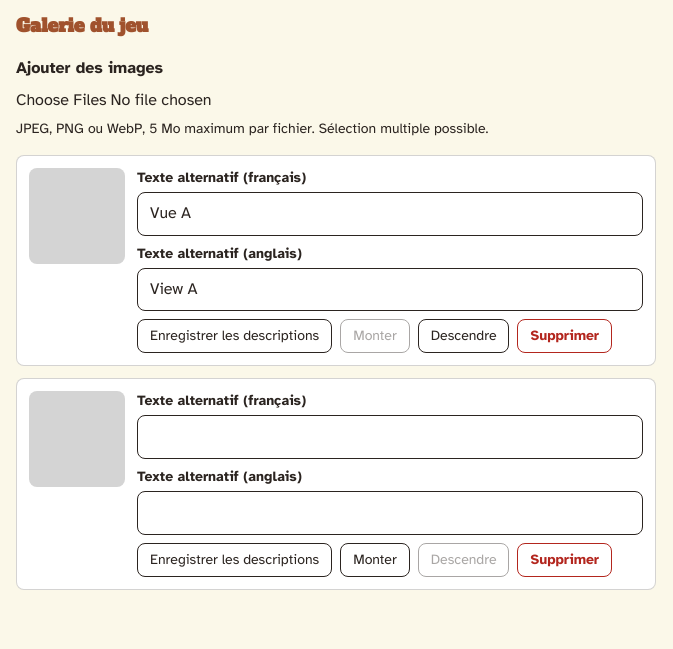
it: GameMediaManager — alt, tri, suppression › suppression réussie : ligne supprimée puis fichier Storage retiré
Expected: the 1st field showing "Vue A" is shown, [137,192,643,236]
Click the 1st button "Supprimer" at x=565, y=336, box [518,319,612,353]
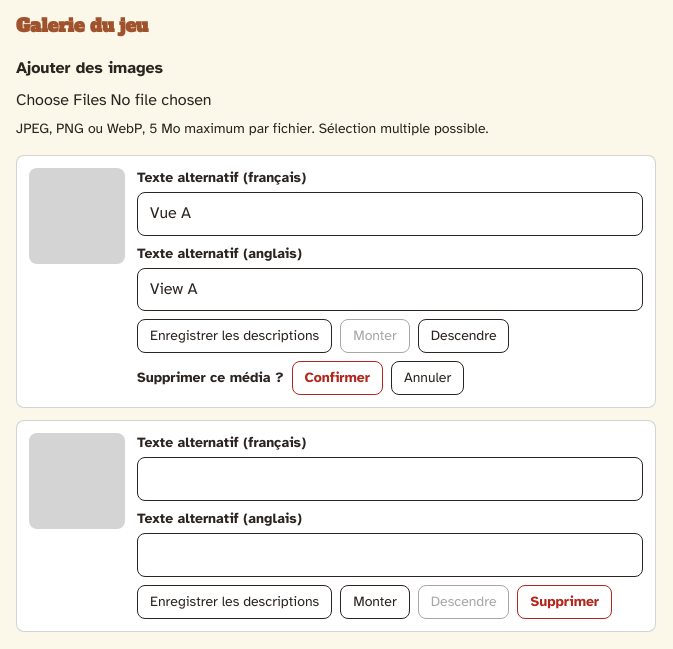
Click the button "Confirmer" at x=337, y=378, box [292,361,383,395]
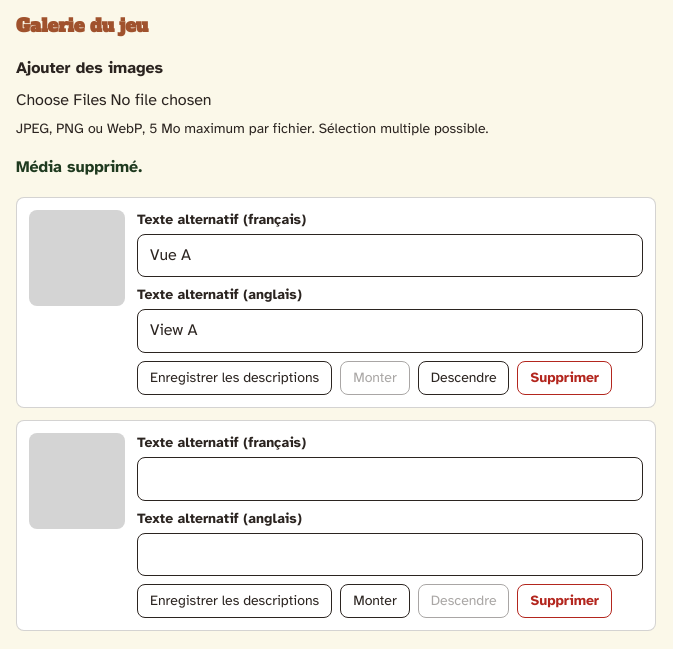
Expected: the text "Média supprimé." is shown, [16,157,142,177]
